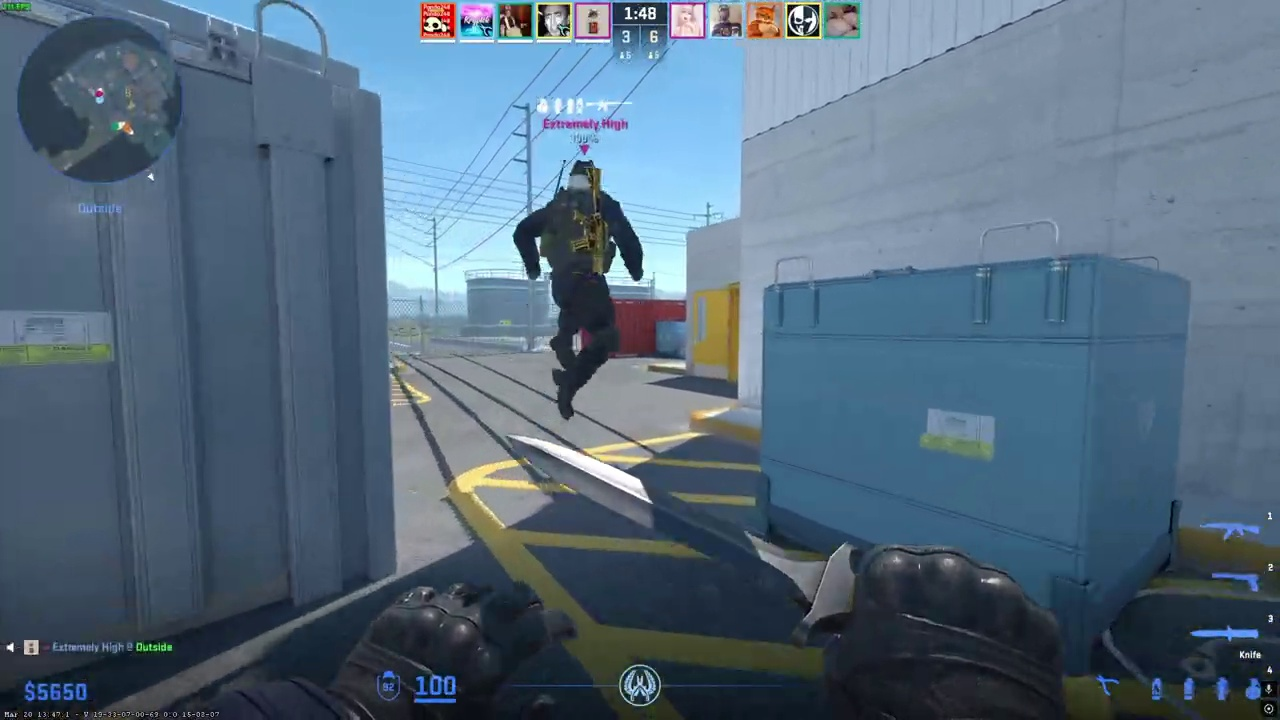CT: (527, 160, 625, 421)
